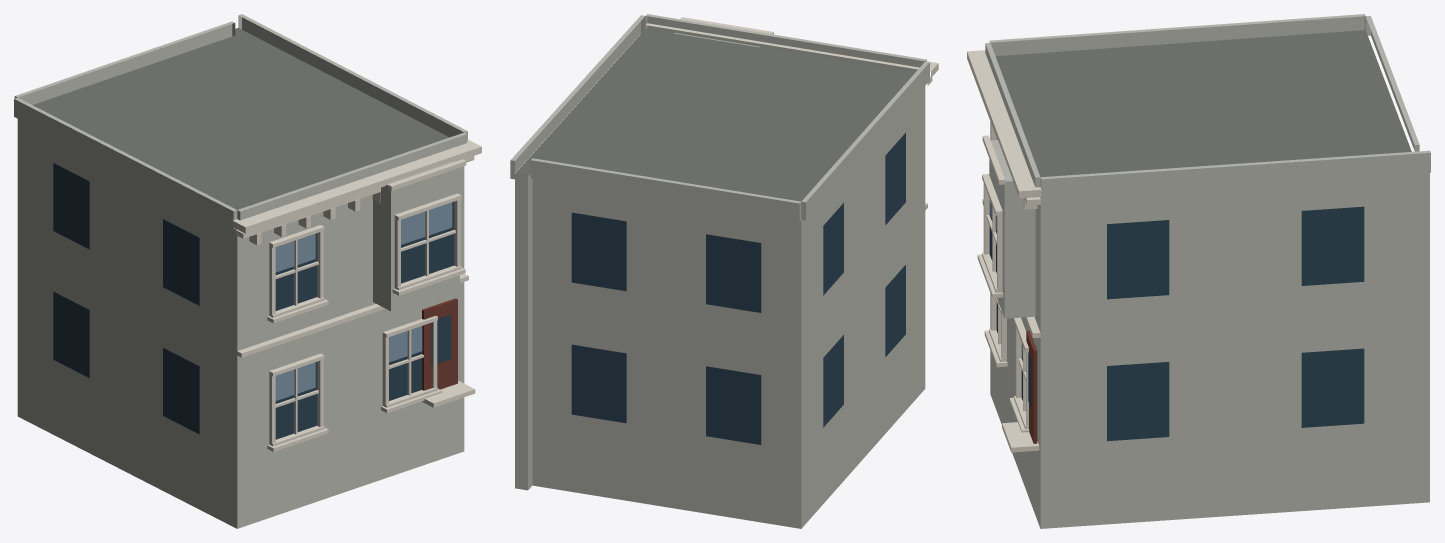
3 renders of one model, left to right at view 1: azimuth 30°, elevation 25°; view 2: azimuth 150°, elevation 25°; view 3: azimuth 270°, elevation 25°, orthographic. The views are drawn at different scales.
Visible parts, largest first — view 1: Footprint 0 / surface 2, Footprint 0 / surface 1, Facade bay volumes, Cornices and window frames, Inset glazing, Sky reflection panels, Storefronts and doors; view 2: Footprint 0 / surface 2, Footprint 0 / surface 1, Inset glazing, Facade bay volumes, Cornices and window frames; view 3: Footprint 0 / surface 2, Footprint 0 / surface 1, Facade bay volumes, Inset glazing, Cornices and window frames, Storefronts and doors.
Part boxes in pixels (x1,y1,x2,y2): Footprint 0 / surface 2: [17, 34, 464, 528]; Footprint 0 / surface 1: [32, 28, 449, 209]; Facade bay volumes: [14, 14, 467, 311]; Cornices and window frames: [232, 140, 481, 451]; Inset glazing: [53, 163, 454, 439]; Sky reflection panels: [275, 202, 452, 400]; Storefronts and doors: [422, 298, 457, 390]; Footprint 0 / surface 2: [515, 86, 925, 528]; Footprint 0 / surface 1: [515, 29, 914, 201]; Inset glazing: [571, 132, 905, 444]; Facade bay volumes: [510, 14, 929, 221]; Cornices and window frames: [646, 17, 938, 210]; Footprint 0 / surface 2: [990, 122, 1429, 528]; Footprint 0 / surface 1: [995, 30, 1411, 177]; Facade bay volumes: [985, 14, 1430, 318]; Inset glazing: [989, 206, 1364, 441]; Cornices and window frames: [967, 50, 1041, 452]; Storefronts and doors: [1026, 330, 1037, 443].
Bounding box in the file's own units: 9.08 × 8.89 × 10.63.
